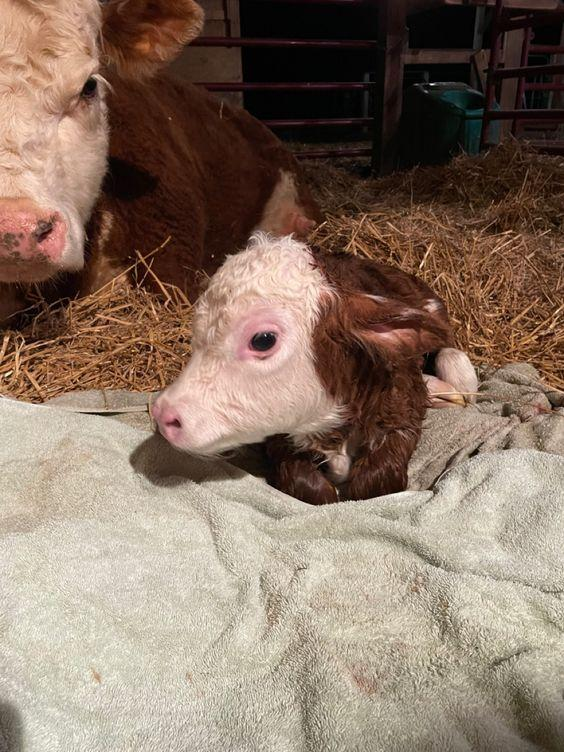cow: (154, 186, 442, 522)
